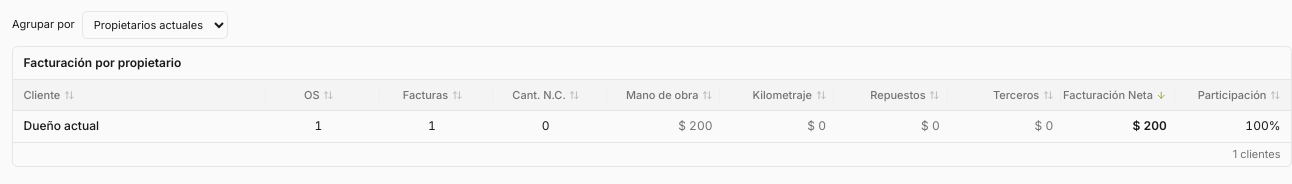
Scenario: client search population › filters invoice lines before grouping and keeps the same total in both perspectives
This screenshot has width=1292, height=184.
Expected: the text "Dueño actual" is shown, [24,118,99,133]
Expected: the text "$ 200" is shown 2 times, [678,118,712,133]; [1133,118,1167,133]
Select "Clientes facturados" in the dropdown named "Agrupar clientes por" at (155, 24), box [82,10,228,38]
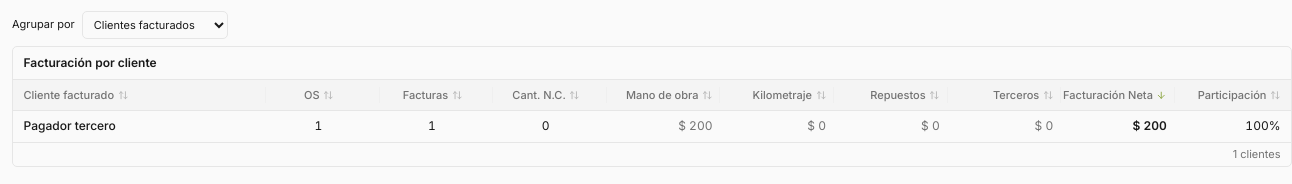
Expected: the text "$ 200" is shown 2 times, [678,118,712,133]; [1133,118,1167,133]
Now the text "Pagador tercero" is shown, box [24,118,116,133]
